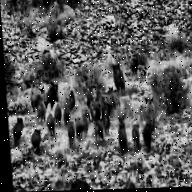boar: (7, 108, 27, 153), (108, 59, 131, 97), (142, 90, 162, 128), (42, 75, 63, 108), (31, 124, 44, 154)
